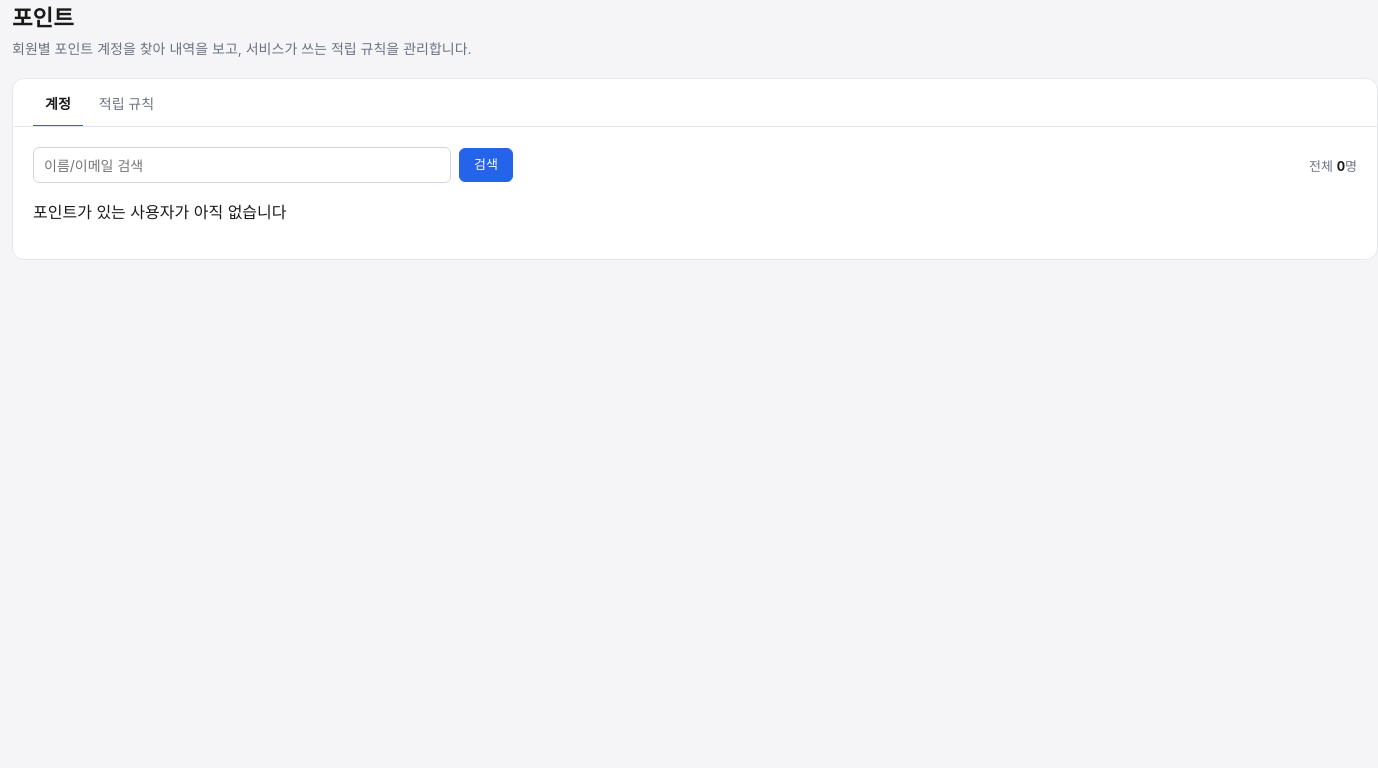
Test: PointsPage › shows rules and saves one row with blank limits sent as null
Click the button "적립 규칙" at coordinates (126, 103), box [87,79,166,127]
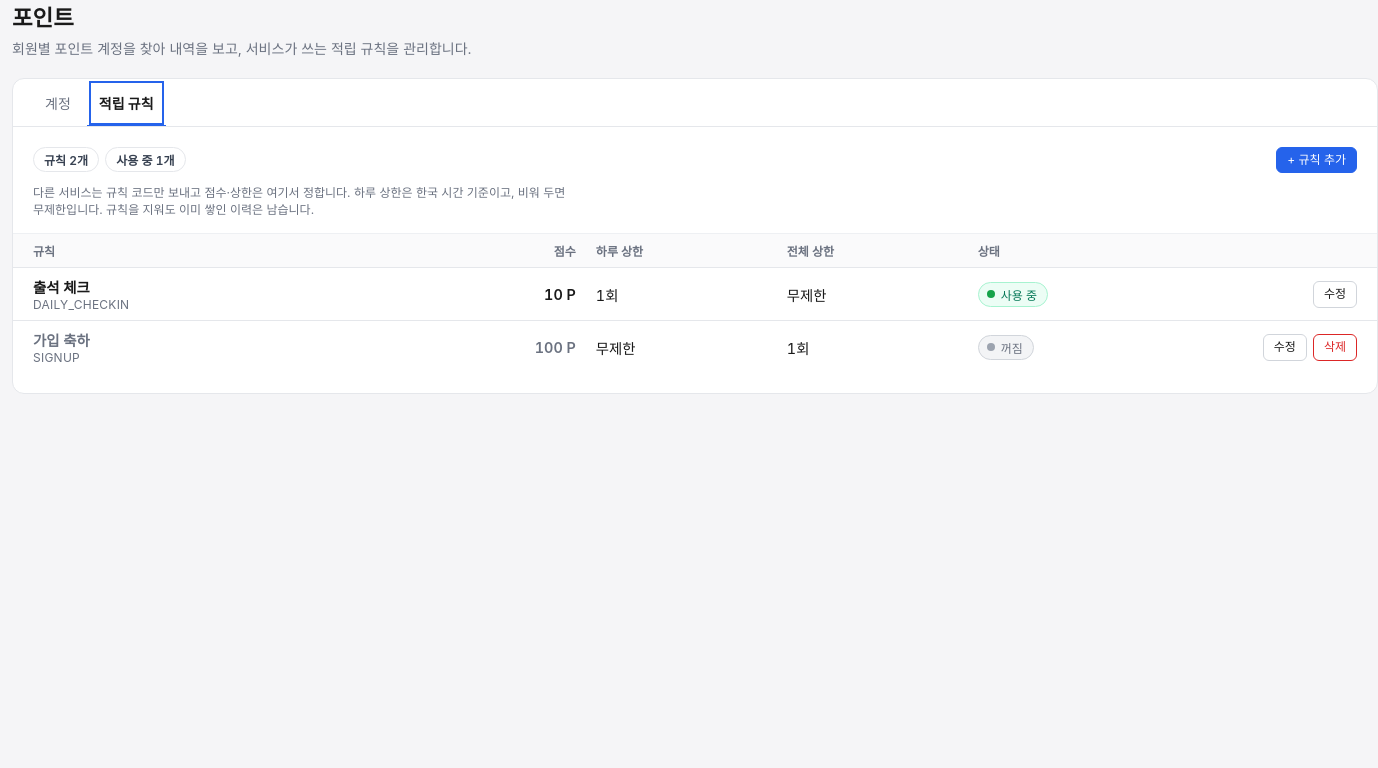
Check: the text "DAILY_CHECKIN" is shown, box [33,297,129,312]
Check: the button with aria-label "SIGNUP 꺼짐" is shown, box [978,335,1034,360]
Check: the button with aria-label "DAILY_CHECKIN 사용 중" is shown, box [978,282,1048,307]
줄의 "수정" 을 누르면 그 자리에 편집 폼이 열린다.
Click the button "수정" in the row of "출석 체크" at coordinates (1335, 294), box [1313,281,1357,308]
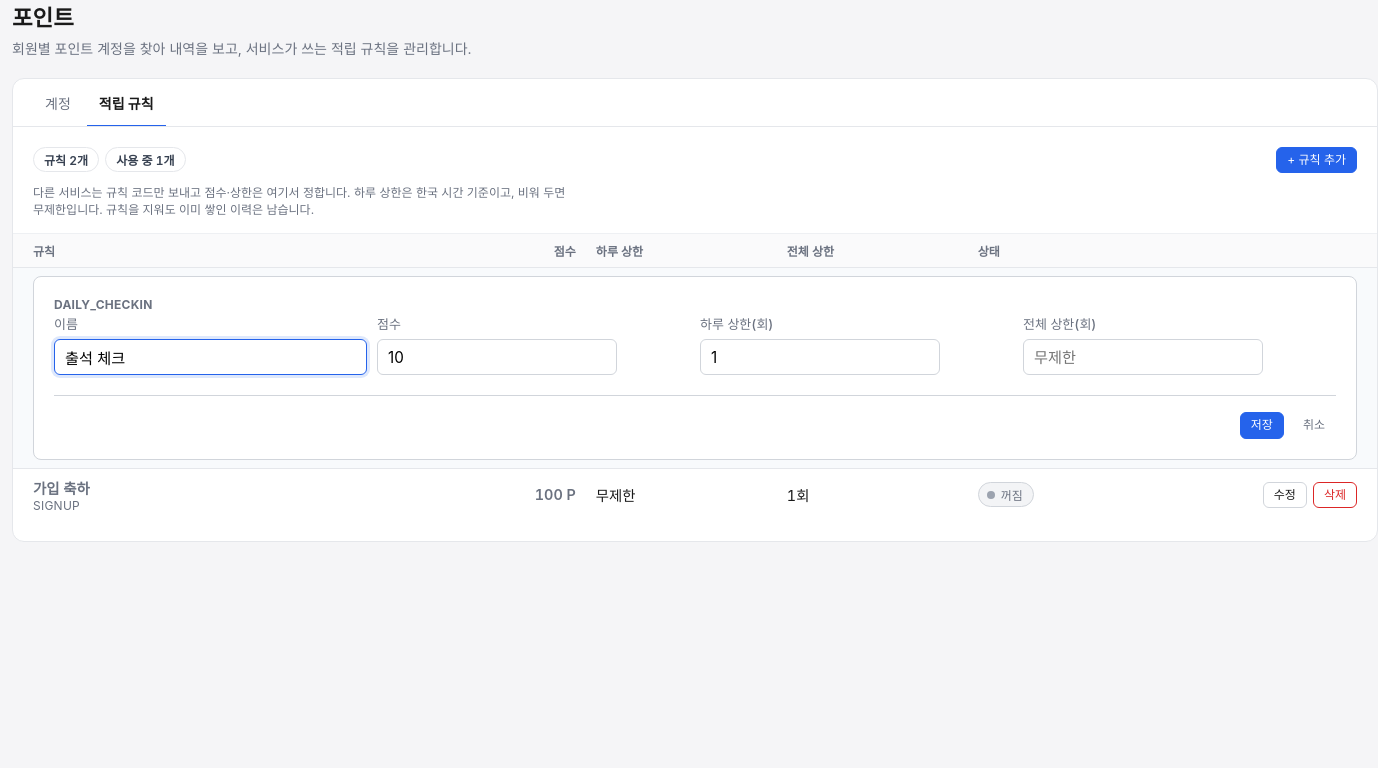
Replace the text in the number field with id "rule-DAILY_CHECKIN-points" with "15" at coordinates (497, 357), box [377,339,617,375]
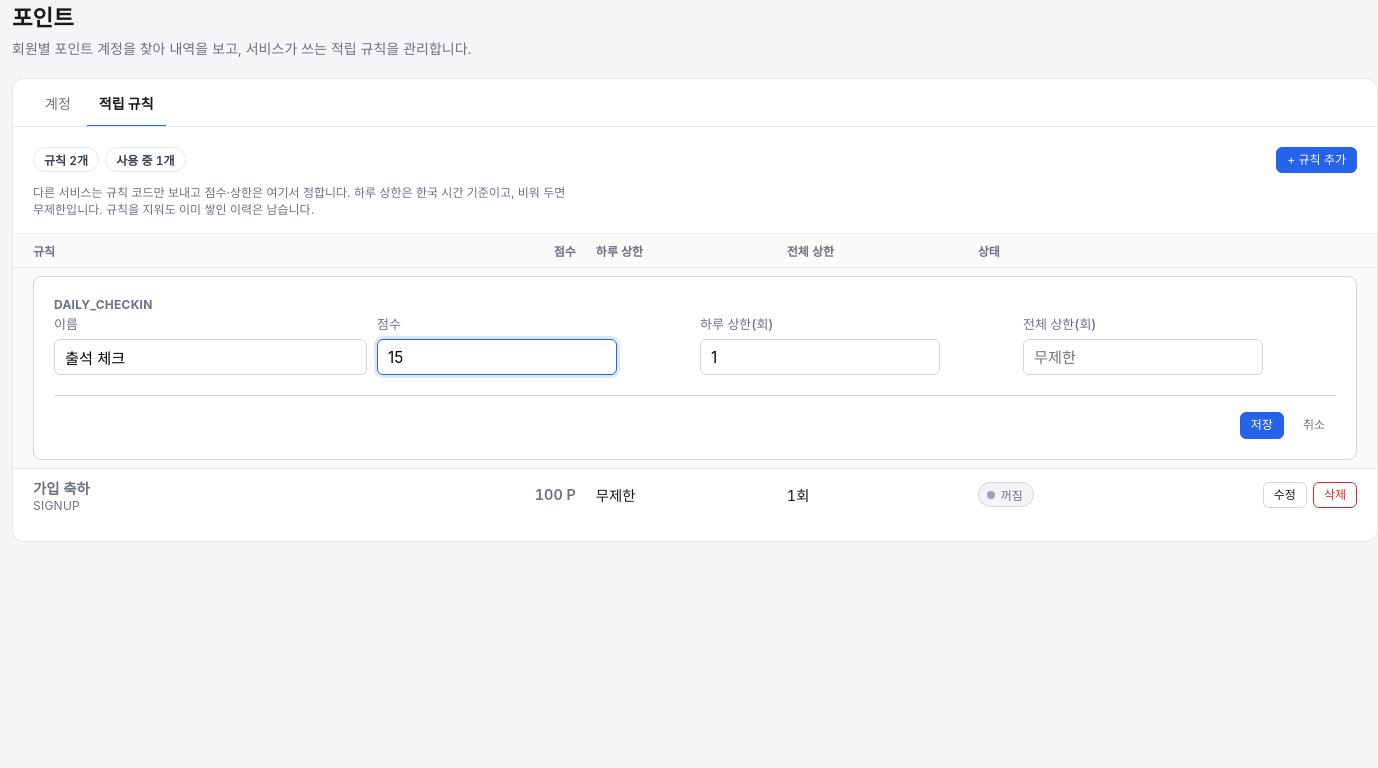
Clear the number field with id "rule-DAILY_CHECKIN-daily" at coordinates (820, 357), box [700,339,940,375]
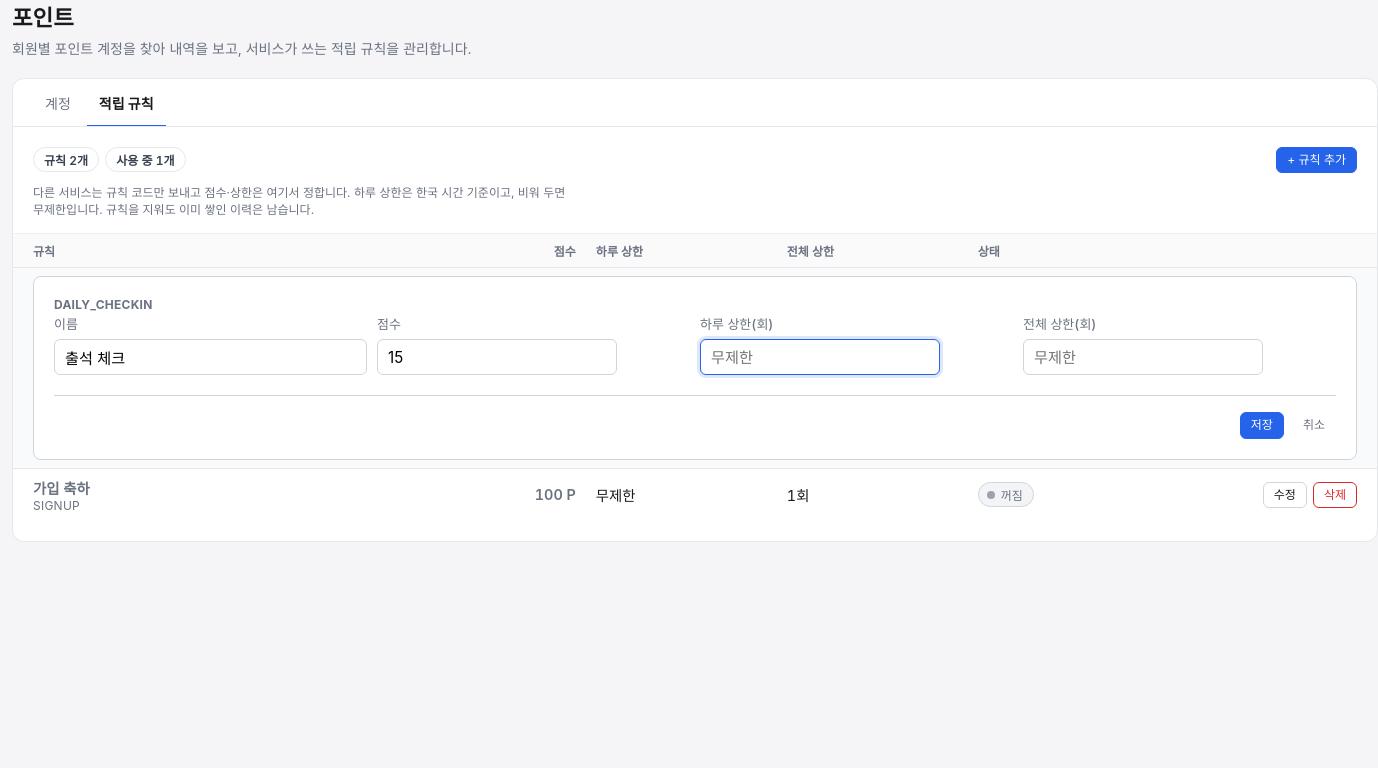
Click the submit button at coordinates (1262, 426), box [1240,412,1284,439]
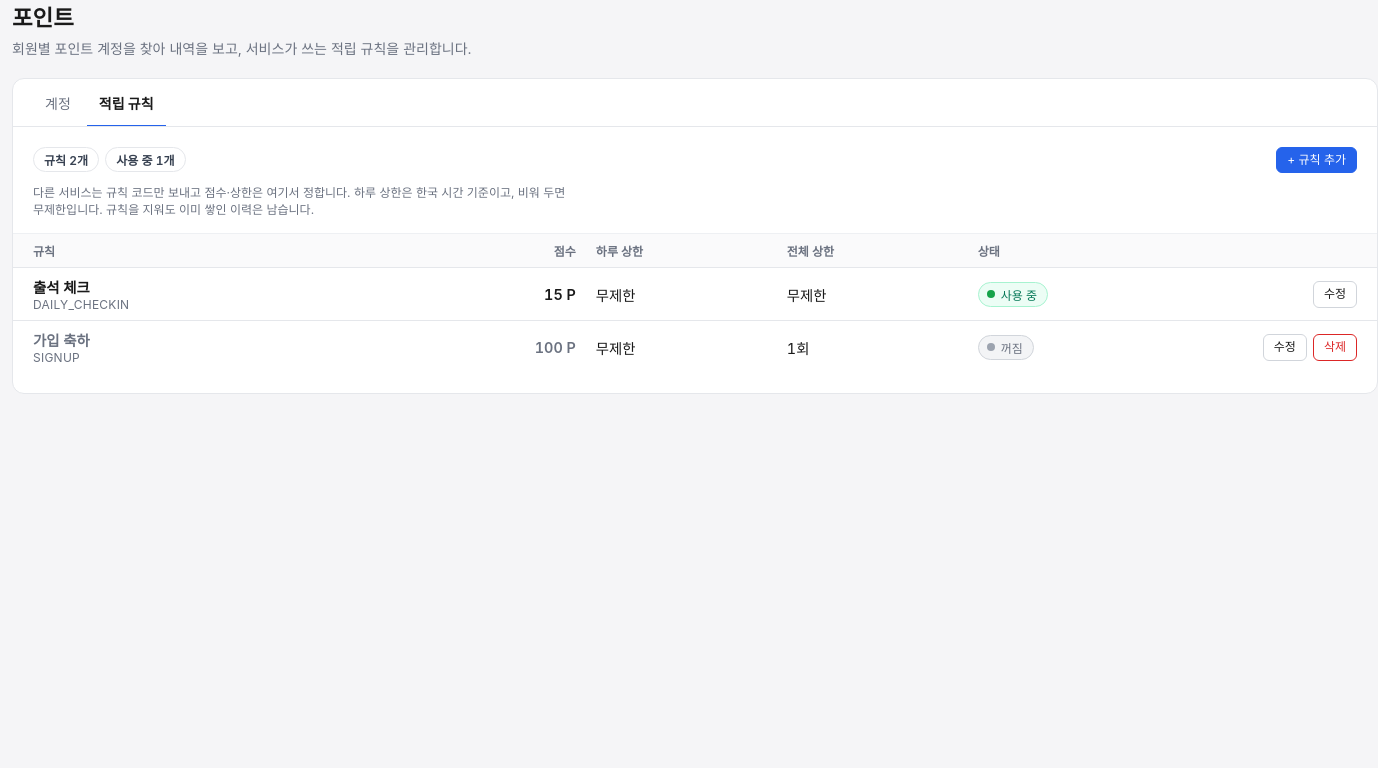
Check: the text "15 P" is shown, box [544,286,576,303]
